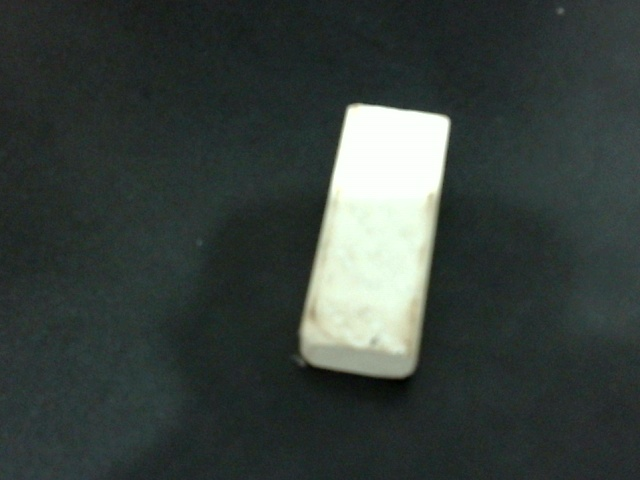eraser: (294, 96, 463, 387)
